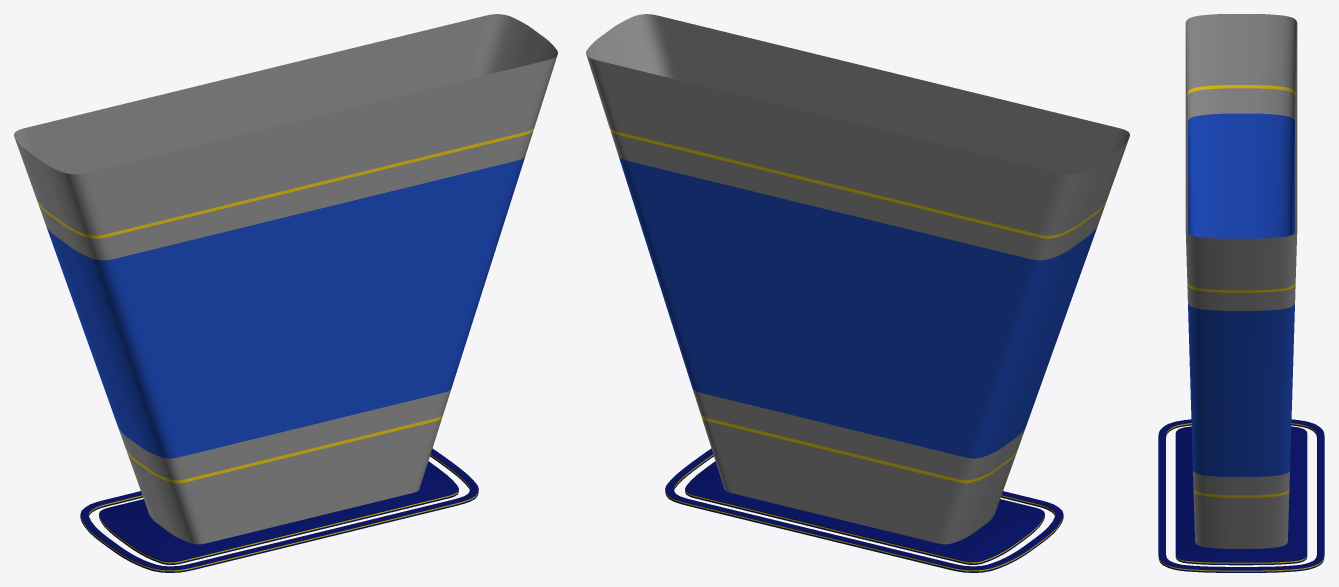
File: CD_JZ_vr_collom01.FBX
3 views of the same model, side by side, from view 1: azimuth 30°, elevation 25°; view 2: azimuth 150°, elevation 25°; view 3: azimuth 270°, elevation 25° (orthographic). The views are drawn at different scales.
Parts seen in each view (by area): view 1: CD_JZ_collom01; view 2: CD_JZ_collom01; view 3: CD_JZ_collom01.
Part boxes in pixels (x1=…): CD_JZ_collom01: x1=14, y1=14, x2=557, y2=572; CD_JZ_collom01: x1=586, y1=14, x2=1129, y2=572; CD_JZ_collom01: x1=1158, y1=14, x2=1324, y2=572.
Bounding box in the file's own units: 847 × 657 × 265.
